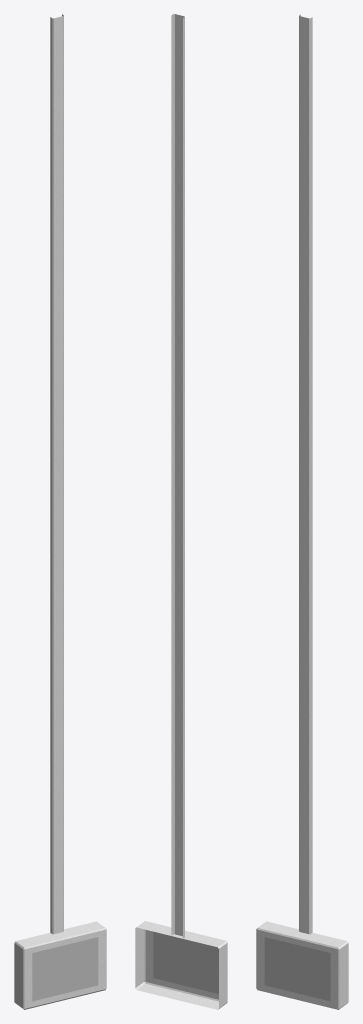
The model's file is Door_Sensor_OR.fbx.
3 views of the same model, side by side, from view 1: azimuth 30°, elevation 25°; view 2: azimuth 150°, elevation 25°; view 3: azimuth 330°, elevation 25° (orthographic).
Visible parts, largest first — view 1: Door_Sensor_OR; view 2: Door_Sensor_OR; view 3: Door_Sensor_OR.
Part boxes in pixels (x1,y1,x2,y2): Door_Sensor_OR: [14, 14, 106, 1009]; Door_Sensor_OR: [135, 14, 227, 1009]; Door_Sensor_OR: [256, 14, 348, 1009].
Bounding box in the file's own units: 15.51 × 174 × 2.99.
